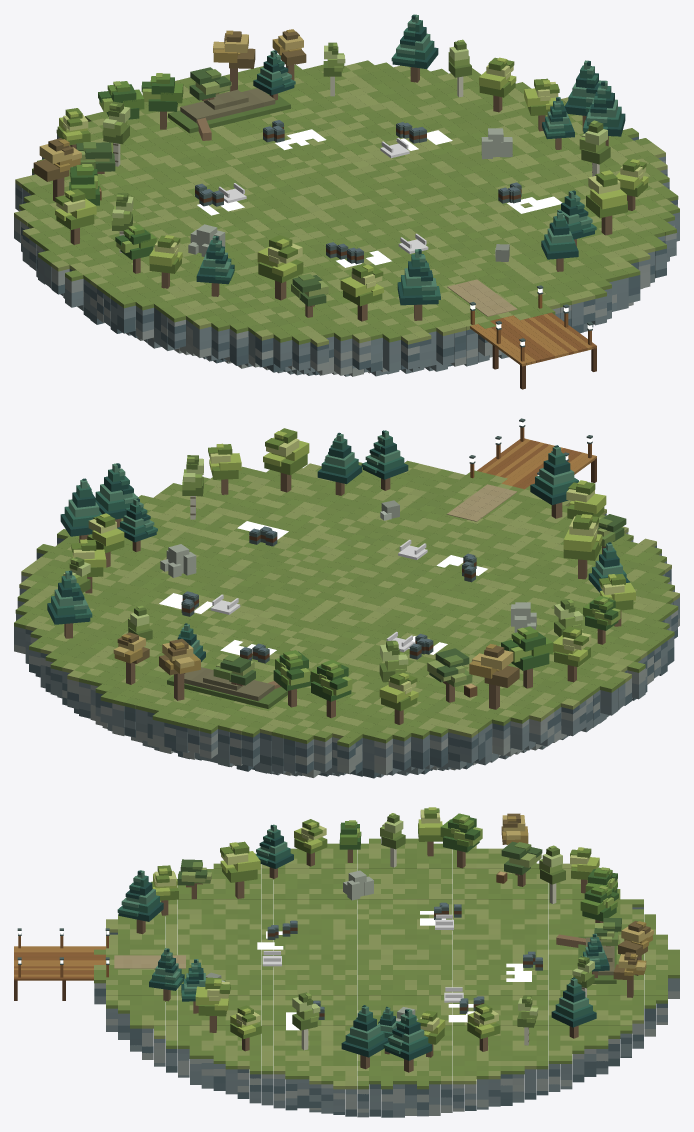
The model's file is landing_purified.glb.
3 views of the same model, one above another, from view 1: azimuth 30°, elevation 25°; view 2: azimuth 150°, elevation 25°; view 3: azimuth 270°, elevation 25° (orthographic). The views are drawn at different scales.
Visible parts, largest first — view 1: landing_blocks, tree4_(0, 0).006, tree2_(0, 0).009, tree2_(0, 0).005, tree4_(0, 0).005, tree5_(0, 0).002, tree4_(0, 0).001, tree0_(0, 0).004, tree5_(0, 0).001, tree4_(0, 0).007, tree2_(0, 0).003, tree2_(0, 0).004 (+24 smaller); view 2: landing_blocks, tree2_(0, 0).009, tree4_(0, 0).005, tree5_(0, 0).002, tree0_(0, 0).002, tree2_(0, 0).005, tree4_(0, 0).006, tree0_(0, 0).001, tree2_(0, 0).003, tree2_(0, 0).007, tree2_(0, 0).006, tree2_(0, 0).002 (+22 smaller); view 3: landing_blocks, tree2_(0, 0).006, tree2_(0, 0).009, tree2_(0, 0).003, tree4_(0, 0).006, tree2_(0, 0).005, tree0_(0, 0).002, tree4_(0, 0).005, tree2_(0, 0).004, tree3_(0, 0).001, tree0_(0, 0).004, tree2_(0, 0).002 (+22 smaller).
Part boxes in pixels (bbox=[...]): landing_blocks: bbox=[14, 60, 679, 389]; tree4_(0, 0).006: bbox=[257, 235, 303, 300]; tree2_(0, 0).009: bbox=[397, 249, 440, 320]; tree2_(0, 0).005: bbox=[391, 14, 438, 82]; tree4_(0, 0).005: bbox=[586, 170, 627, 235]; tree5_(0, 0).002: bbox=[33, 138, 81, 202]; tree4_(0, 0).001: bbox=[340, 263, 383, 321]; tree0_(0, 0).004: bbox=[141, 73, 183, 129]; tree5_(0, 0).001: bbox=[213, 30, 255, 91]; tree4_(0, 0).007: bbox=[55, 189, 96, 244]; tree2_(0, 0).003: bbox=[583, 80, 625, 146]; tree2_(0, 0).004: bbox=[196, 235, 234, 296]; landing_blocks: bbox=[14, 418, 679, 778]; tree2_(0, 0).009: bbox=[530, 445, 578, 518]; tree4_(0, 0).005: bbox=[263, 428, 309, 492]; tree5_(0, 0).002: bbox=[469, 643, 519, 709]; tree0_(0, 0).002: bbox=[501, 626, 553, 688]; tree2_(0, 0).005: bbox=[47, 570, 92, 638]; tree4_(0, 0).006: bbox=[563, 514, 602, 579]; tree0_(0, 0).001: bbox=[310, 659, 352, 718]; tree2_(0, 0).003: bbox=[95, 463, 138, 527]; tree2_(0, 0).007: bbox=[317, 432, 362, 495]; tree2_(0, 0).006: bbox=[60, 478, 101, 542]; tree2_(0, 0).002: bbox=[361, 430, 408, 490]; landing_blocks: bbox=[14, 838, 679, 1117]; tree2_(0, 0).006: bbox=[383, 1009, 432, 1072]; tree2_(0, 0).009: bbox=[117, 870, 163, 934]; tree2_(0, 0).003: bbox=[341, 1005, 388, 1069]; tree4_(0, 0).006: bbox=[220, 841, 260, 898]; tree2_(0, 0).005: bbox=[551, 977, 596, 1038]; tree0_(0, 0).002: bbox=[440, 813, 482, 868]; tree4_(0, 0).005: bbox=[195, 977, 230, 1032]; tree2_(0, 0).004: bbox=[256, 824, 293, 879]; tree3_(0, 0).001: bbox=[501, 841, 542, 886]; tree0_(0, 0).004: bbox=[580, 885, 618, 922]; tree2_(0, 0).002: bbox=[149, 948, 184, 1001].
Size of the model in its own units: 61.24 by 17.29 by 69.62.
